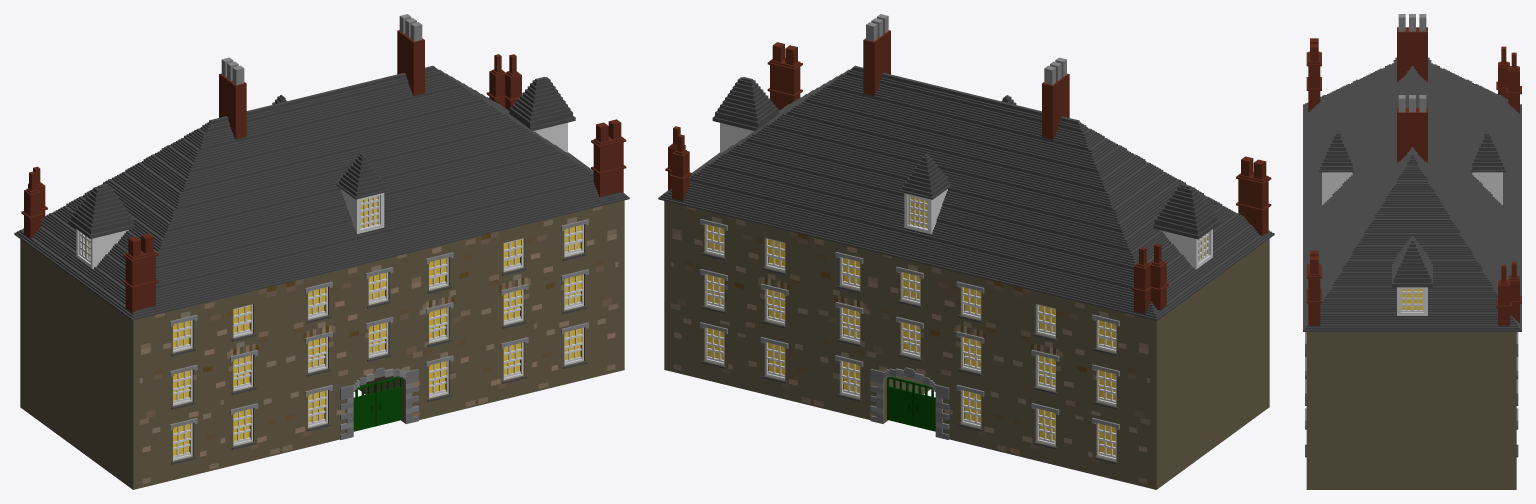
The model's file is warmus.glb.
3 renders of one model, left to right at view 1: azimuth 30°, elevation 25°; view 2: azimuth 150°, elevation 25°; view 3: azimuth 270°, elevation 25°, orthographic. The views are drawn at different scales.
Parts seen in each view (by area): view 1: Untitled.005, Untitled.004, Untitled.007, Untitled.002, Untitled.006, Untitled.003; view 2: Untitled.005, Untitled.004, Untitled.007, Untitled.002, Untitled.006, Untitled.003; view 3: Untitled.006, Untitled.003, Untitled.004, Untitled.002.
Part boxes in pixels (x1=…): Untitled.005: x1=20, y1=239, x2=280, y2=489; Untitled.004: x1=219, y1=14, x2=480, y2=283; Untitled.007: x1=281, y1=236, x2=476, y2=453; Untitled.002: x1=14, y1=117, x2=281, y2=320; Untitled.006: x1=476, y1=200, x2=624, y2=405; Untitled.003: x1=425, y1=54, x2=629, y2=235; Untitled.005: x1=1008, y1=239, x2=1269, y2=489; Untitled.004: x1=808, y1=14, x2=1069, y2=284; Untitled.007: x1=812, y1=237, x2=1008, y2=453; Untitled.002: x1=1007, y1=117, x2=1274, y2=320; Untitled.006: x1=664, y1=201, x2=812, y2=405; Untitled.003: x1=658, y1=42, x2=863, y2=235; Untitled.006: x1=1305, y1=332, x2=1518, y2=489; Untitled.003: x1=1303, y1=149, x2=1521, y2=331; Untitled.004: x1=1303, y1=14, x2=1521, y2=262; Untitled.002: x1=1303, y1=38, x2=1521, y2=172.
Size of the model in its own units: 31.3 by 20.8 by 12.8.
6 materials, 6 textured.
